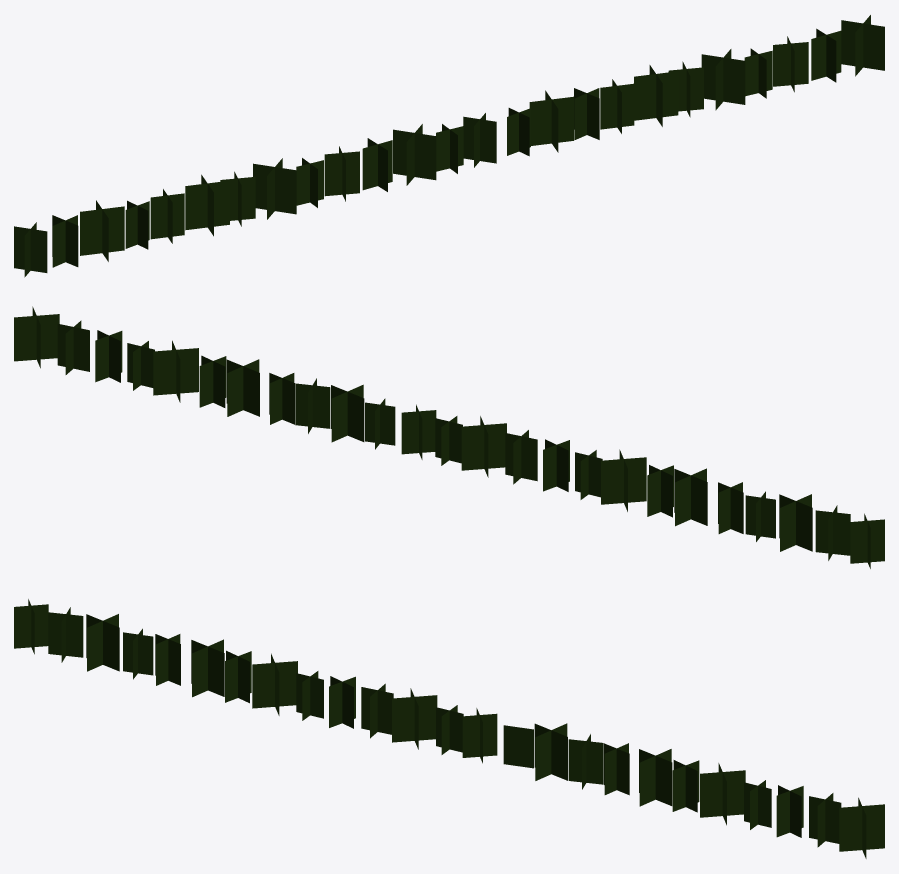
File: RT PlantMOB for PI V01.FBX
The picture shows the model from 3 angles, top to bottom: view 1: azimuth 30°, elevation 25°; view 2: azimuth 150°, elevation 25°; view 3: azimuth 330°, elevation 25°; orthographic projection.
Visible parts, largest first — view 1: RT PlantMOB for PI V01; view 2: RT PlantMOB for PI V01; view 3: RT PlantMOB for PI V01.
Boxes of the visible parts, <box> form: RT PlantMOB for PI V01: <box>14,15,884,277</box>; RT PlantMOB for PI V01: <box>14,306,884,568</box>; RT PlantMOB for PI V01: <box>14,599,884,858</box>.
Size of the model in its own units: 60.92 by 2.99 by 2.76.
